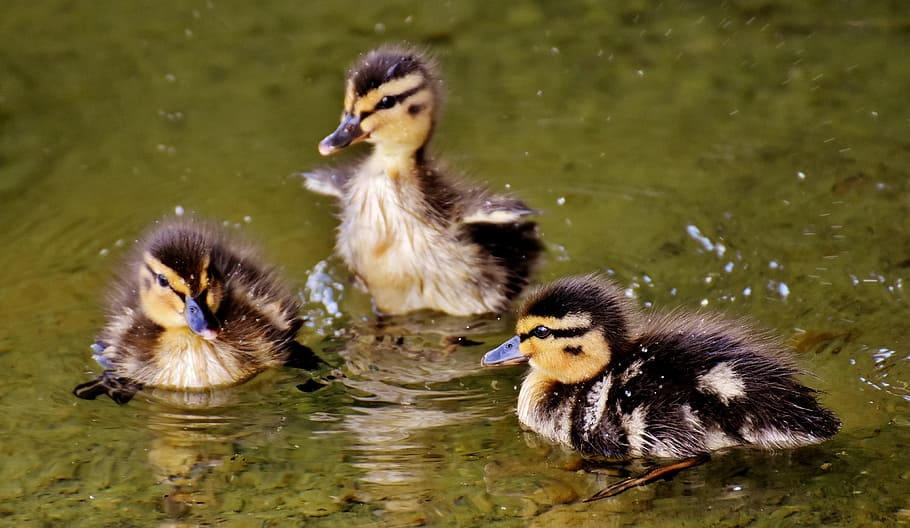bebek: (469, 280, 855, 489), (301, 21, 549, 324), (64, 211, 335, 414)
